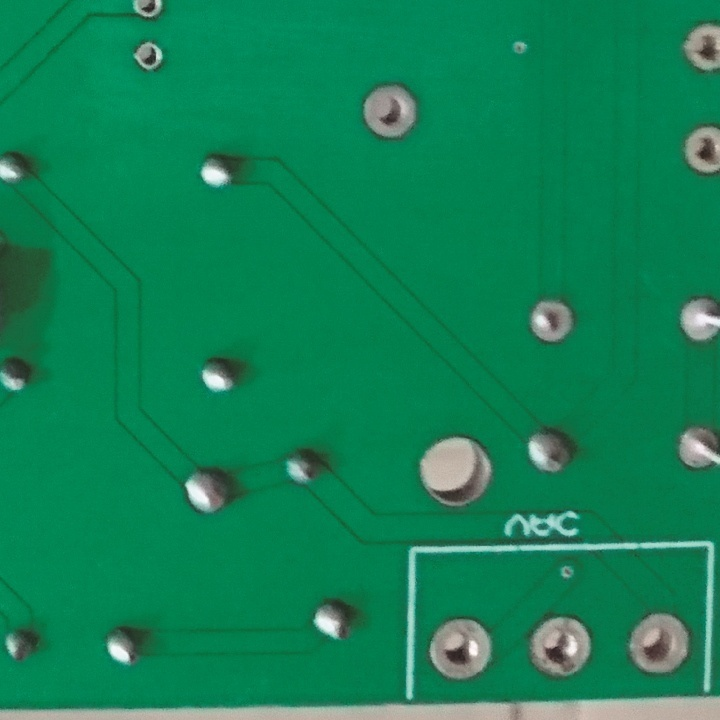F: (623, 608, 691, 677), (427, 616, 495, 684), (525, 616, 595, 680), (356, 80, 423, 143), (524, 294, 579, 347), (674, 292, 720, 349), (679, 119, 720, 178), (676, 423, 720, 476), (679, 19, 720, 73), (133, 31, 164, 72), (130, 1, 167, 23)
